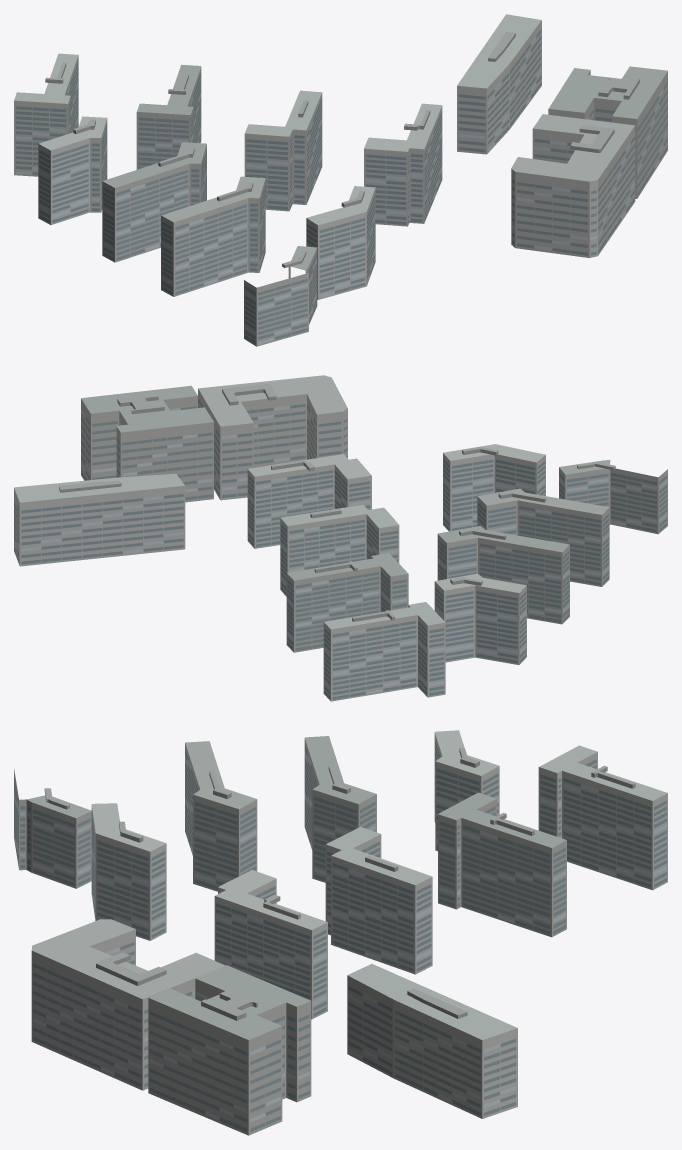
File: apt-a10028172.glb
The picture shows the model from 3 angles, top to bottom: view 1: azimuth 30°, elevation 25°; view 2: azimuth 150°, elevation 25°; view 3: azimuth 270°, elevation 25°; orthographic projection. The views are drawn at different scales.
Parts seen in each view (by area): view 1: apt-a10028172; view 2: apt-a10028172; view 3: apt-a10028172.
Boxes of the visible parts, left/top/right/bottom form: apt-a10028172: left=14, top=14, right=667, bottom=346; apt-a10028172: left=14, top=375, right=667, bottom=701; apt-a10028172: left=14, top=730, right=667, bottom=1135.
Size of the model in its own units: 312 by 46 by 273.
